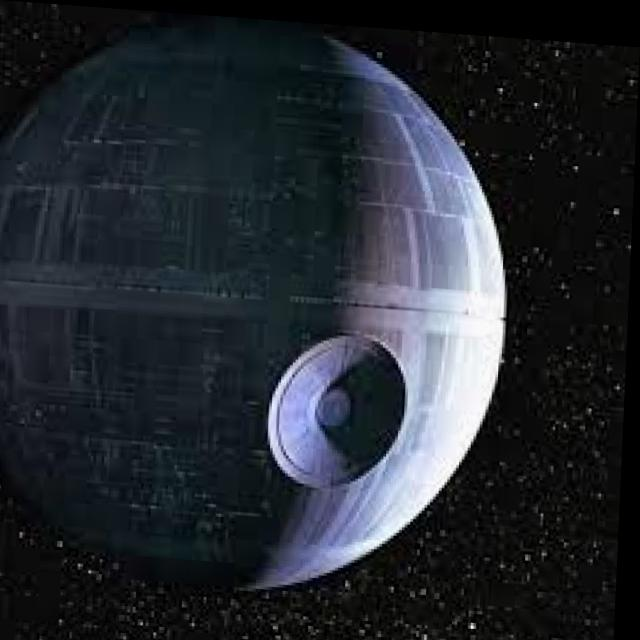deathStar: (0, 5, 517, 601)
